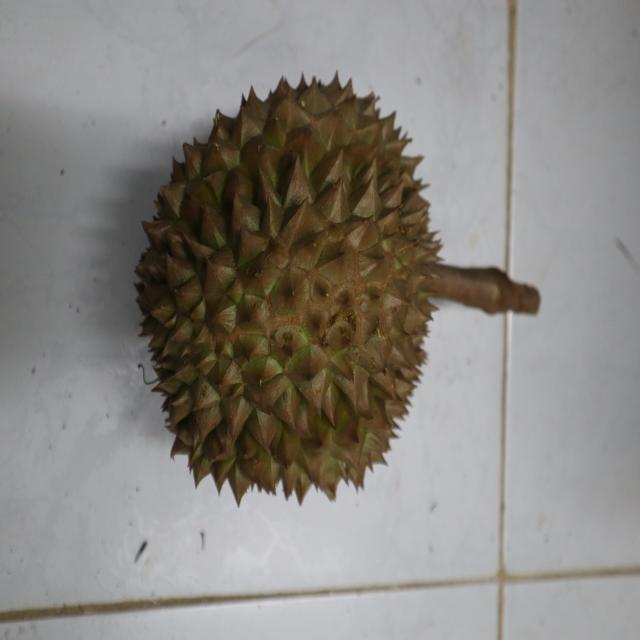mature: (124, 71, 442, 501)
